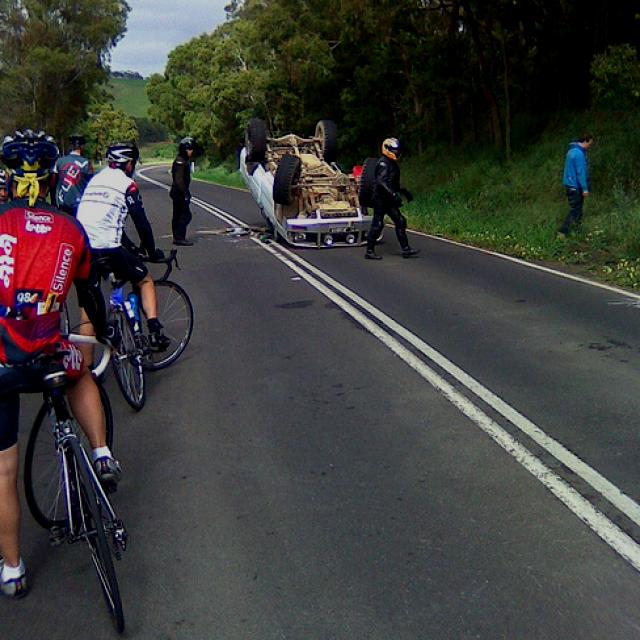Vehicle: (238, 116, 384, 250)
